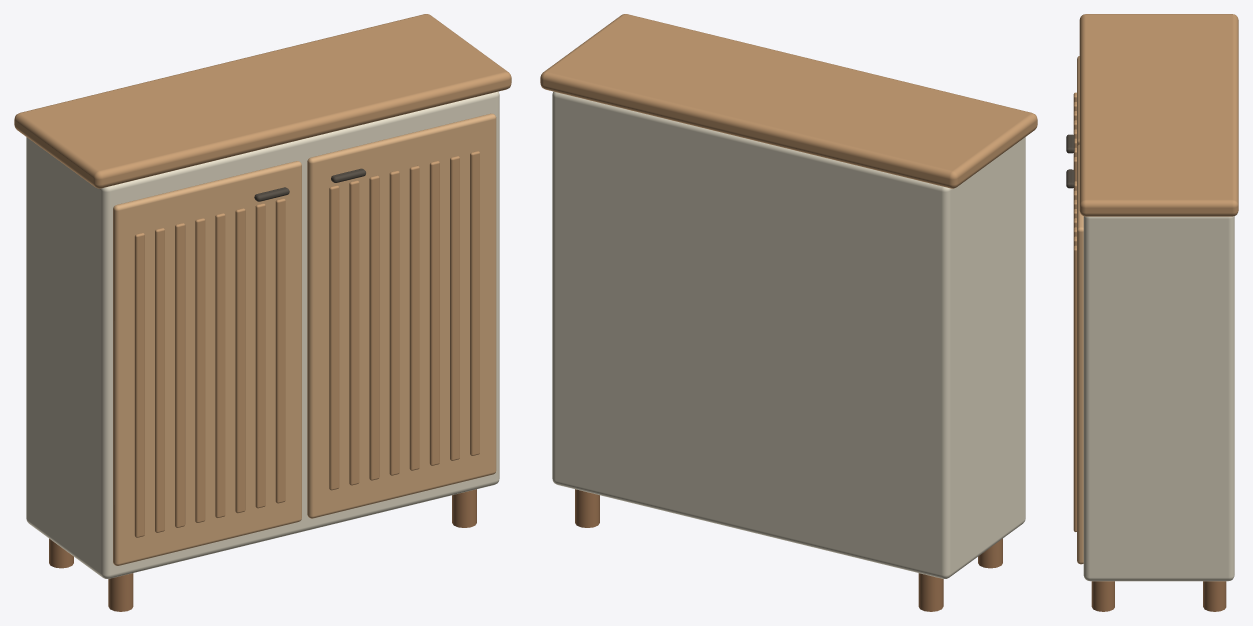
Rendered from family-shoe-cabinet-v1.glb.
3 views of the same model, side by side, from view 1: azimuth 30°, elevation 25°; view 2: azimuth 150°, elevation 25°; view 3: azimuth 270°, elevation 25° (orthographic). The views are drawn at different scales.
Visible parts, largest first — view 1: Inset front (×2), Slat (×16), Carcase, Oak top, Foot (×2); view 2: Carcase, Oak top, Foot (×2); view 3: Carcase, Oak top, Inset front (×2), Foot (×2), Slat.
Part boxes in pixels (box(x1,y1,x2,y2)): Inset front (×2): box(113, 113, 496, 565); Slat (×16): box(134, 151, 479, 537); Carcase: box(26, 91, 499, 578); Oak top: box(14, 14, 511, 188); Foot (×2): box(108, 489, 476, 611); Carcase: box(552, 91, 1025, 578); Oak top: box(540, 14, 1037, 188); Foot (×2): box(575, 489, 943, 611); Carcase: box(1083, 216, 1234, 581); Oak top: box(1079, 14, 1238, 216); Inset front (×2): box(1077, 56, 1083, 564); Foot (×2): box(1091, 581, 1226, 611); Slat: box(1073, 245, 1076, 531).
Size of the model in its own units: 0.85 by 0.877 by 0.325.
